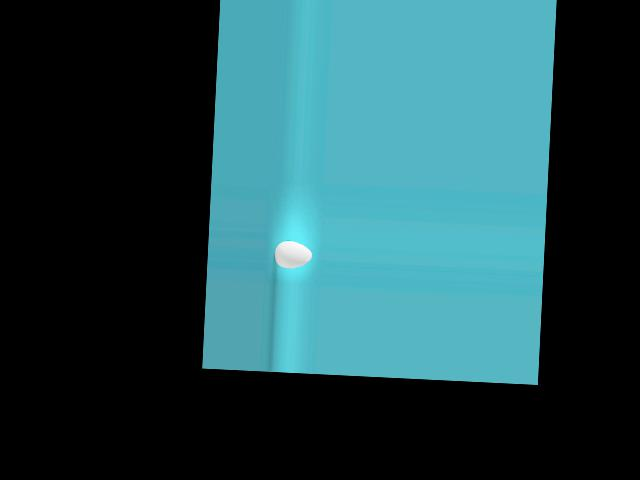egg: (273, 240, 312, 270)
